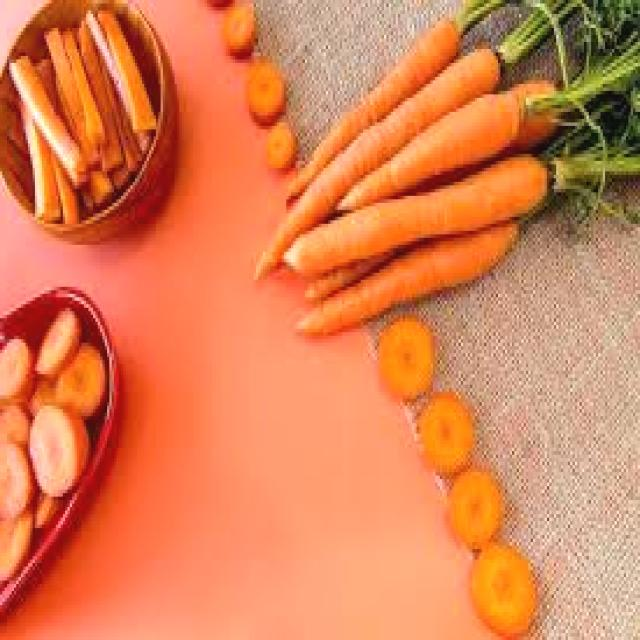garlic: (265, 0, 547, 336), (0, 290, 103, 584), (20, 4, 160, 213), (463, 530, 541, 634), (369, 305, 448, 400), (441, 459, 506, 544), (414, 390, 476, 475), (212, 0, 272, 71), (260, 107, 305, 174), (243, 61, 288, 120)
